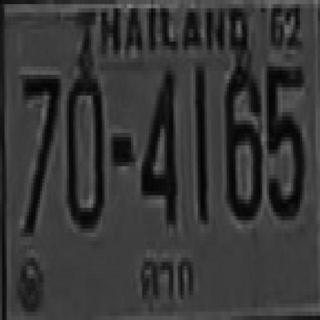N00: (64, 71, 102, 224)
N01: (193, 62, 207, 220)
N04: (140, 67, 176, 220)
N05: (264, 62, 302, 216)
N06: (223, 62, 261, 216)
N07: (20, 71, 58, 233)
P69: (136, 252, 197, 303)
